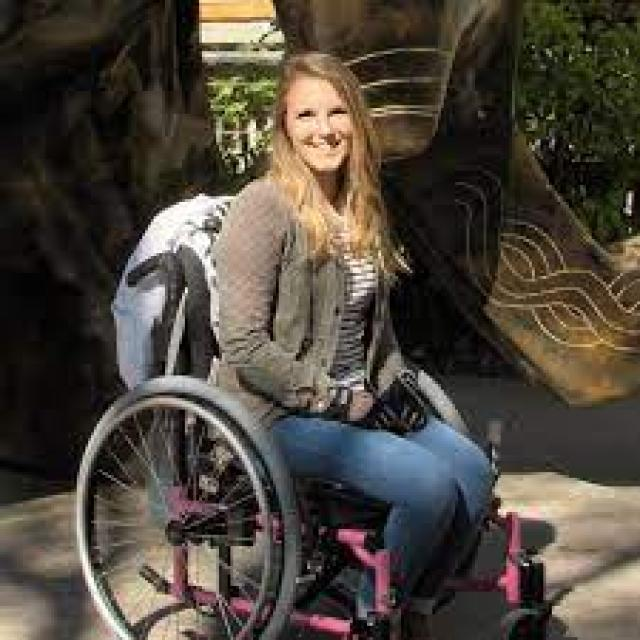wheelchairs: (63, 185, 549, 640)
